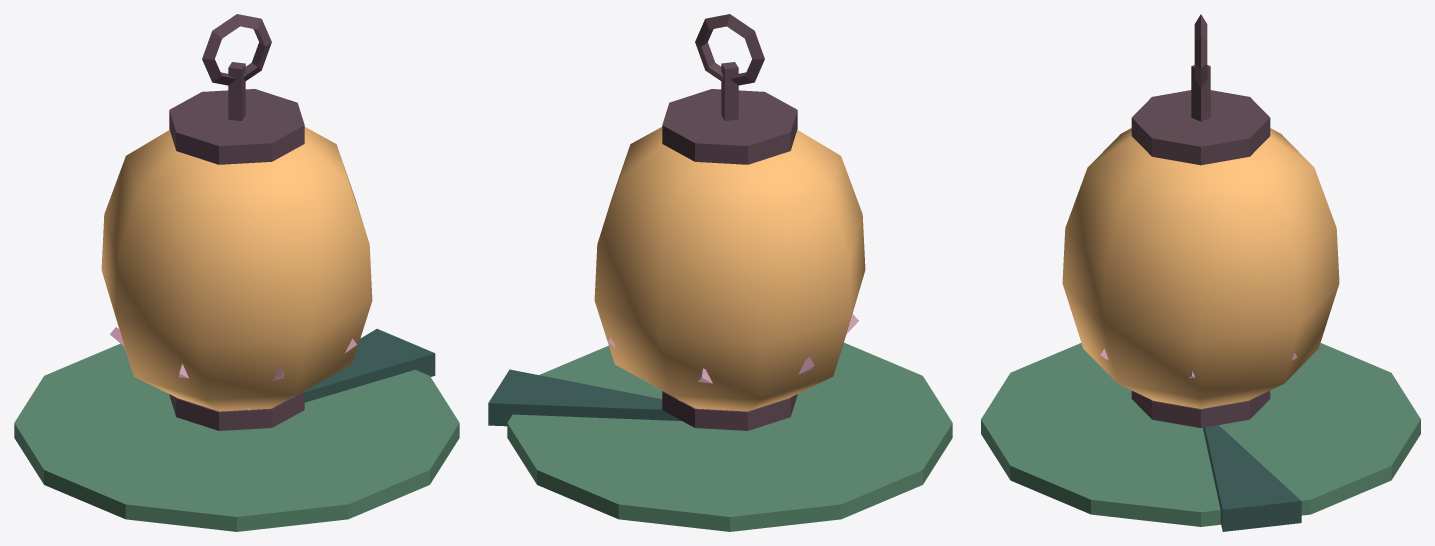
The model's file is floating_lantern.glb.
The picture shows the model from 3 angles, left to right: view 1: azimuth 30°, elevation 25°; view 2: azimuth 150°, elevation 25°; view 3: azimuth 270°, elevation 25°; orthographic projection.
Visible parts, largest first — view 1: floating_lantern; view 2: floating_lantern; view 3: floating_lantern.
Boxes of the visible parts, left/top/right/bottom form: floating_lantern: left=14, top=14, right=459, bottom=531; floating_lantern: left=488, top=14, right=952, bottom=531; floating_lantern: left=981, top=14, right=1420, bottom=531.
Size of the model in its own units: 0.5631 by 0.567 by 0.54.
